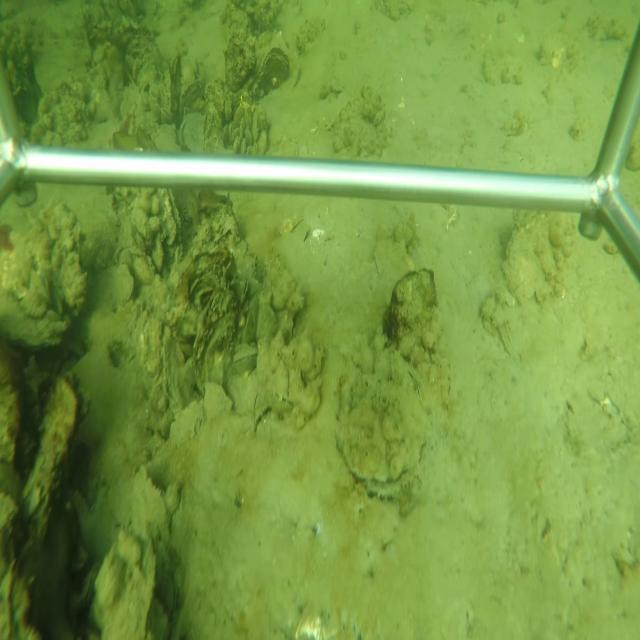Oyster-Closed: (22, 373, 82, 546), (500, 220, 558, 298), (256, 47, 289, 82)
Oyster-Indeterminate: (331, 343, 429, 487), (93, 524, 159, 634), (387, 264, 439, 329), (132, 463, 171, 545), (91, 260, 136, 313)
Oyster-Open: (163, 192, 182, 248), (233, 341, 258, 373)
